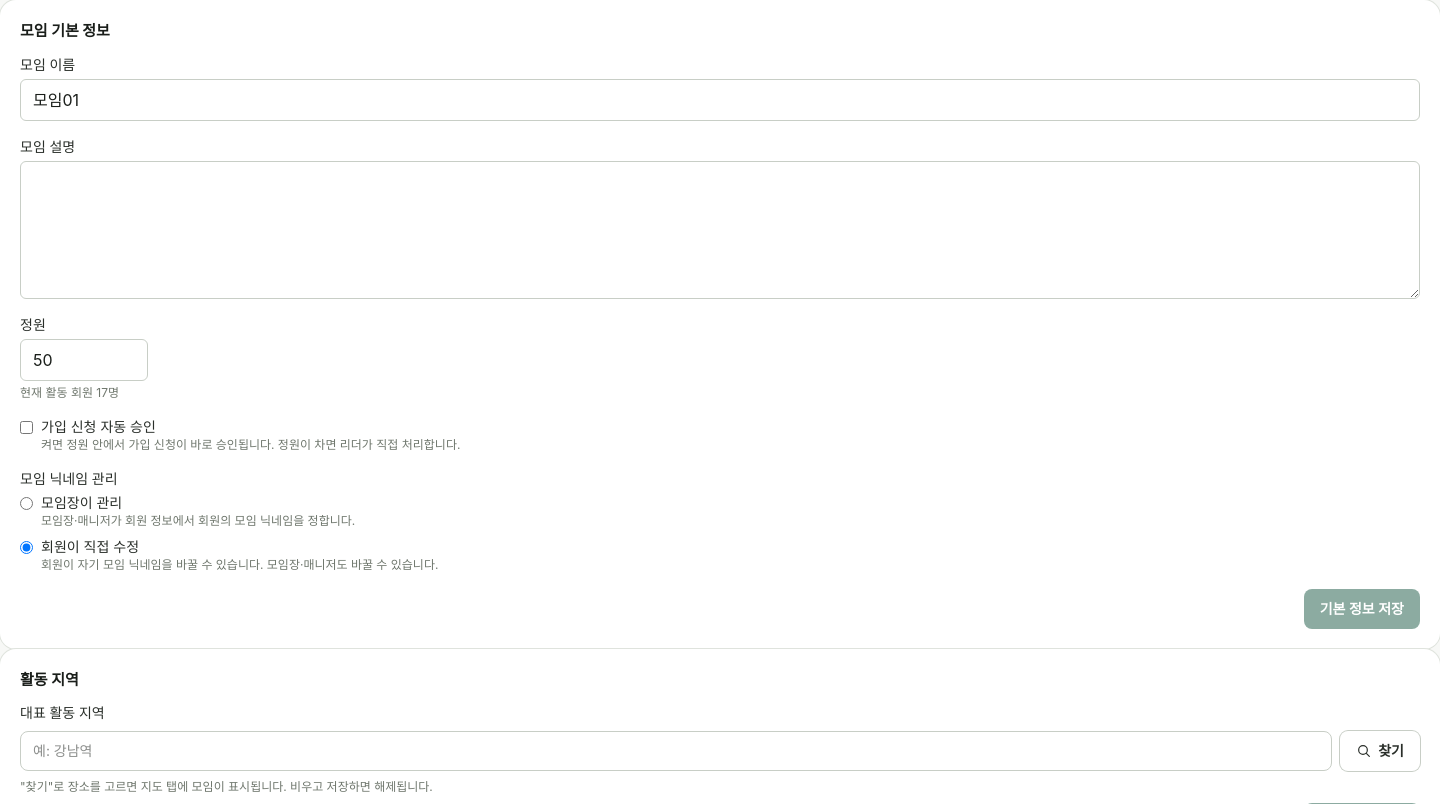
Scenario: GroupSettingsSection › 정원을 현재 회원 수보다 작게 하면 저장하지 않고 안내한다
Replace the text in the number field labelled "정원" with "10" at (84, 360), box [20, 338, 148, 380]
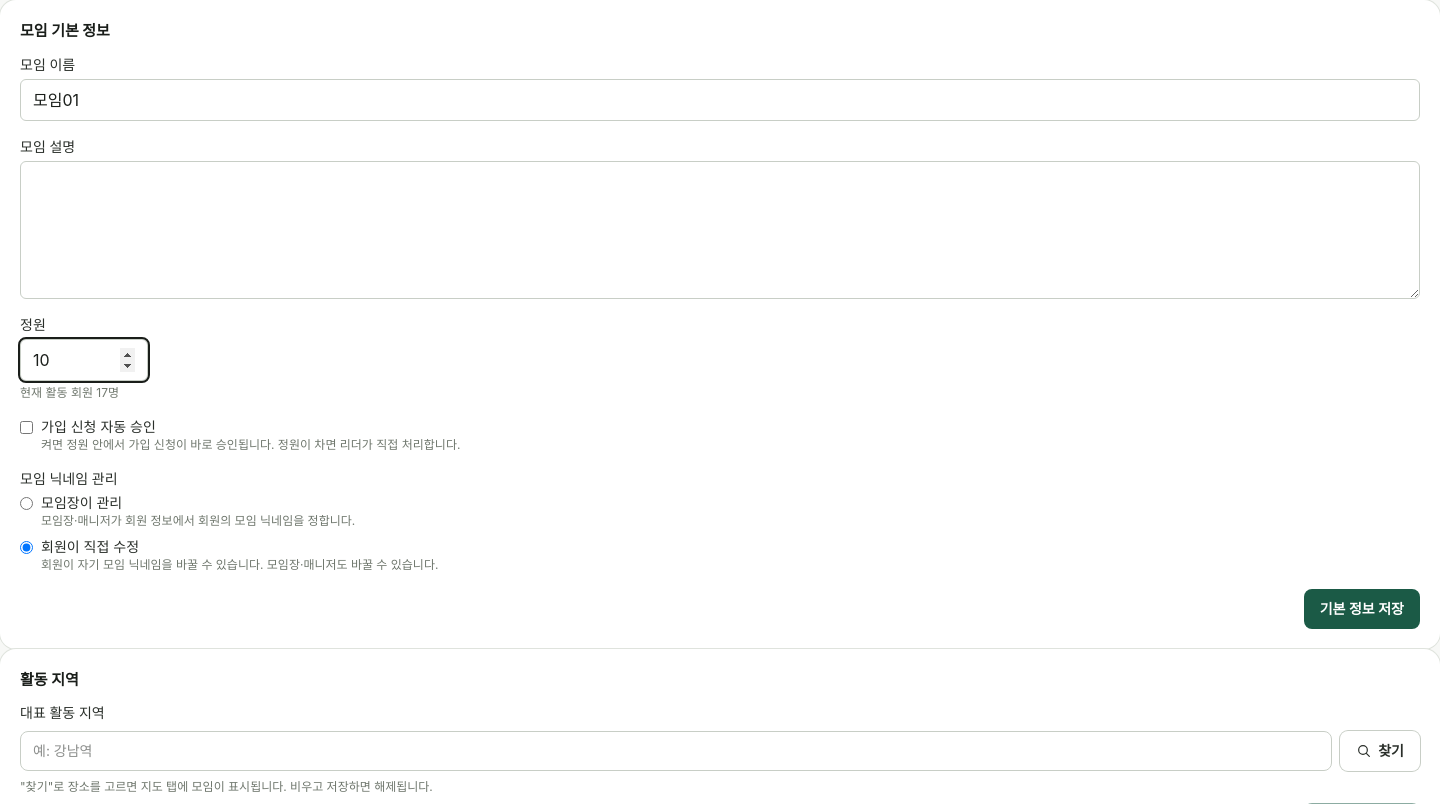
Click the button "기본 정보 저장" at (1362, 608), box [1304, 588, 1420, 628]
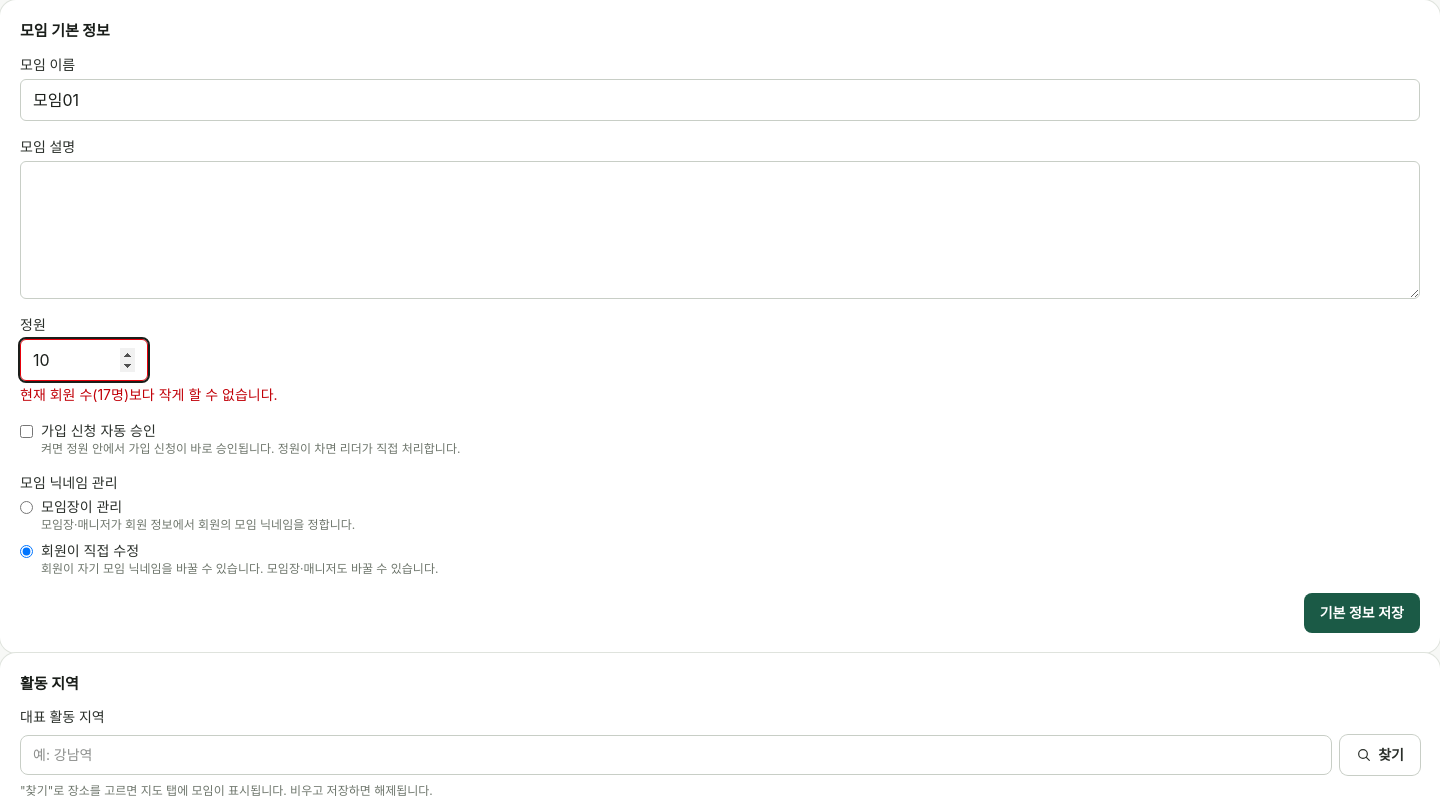
Expected: the text "현재 회원 수(17명)보다 작게 할 수 없습니다." is shown, [20, 386, 278, 402]
